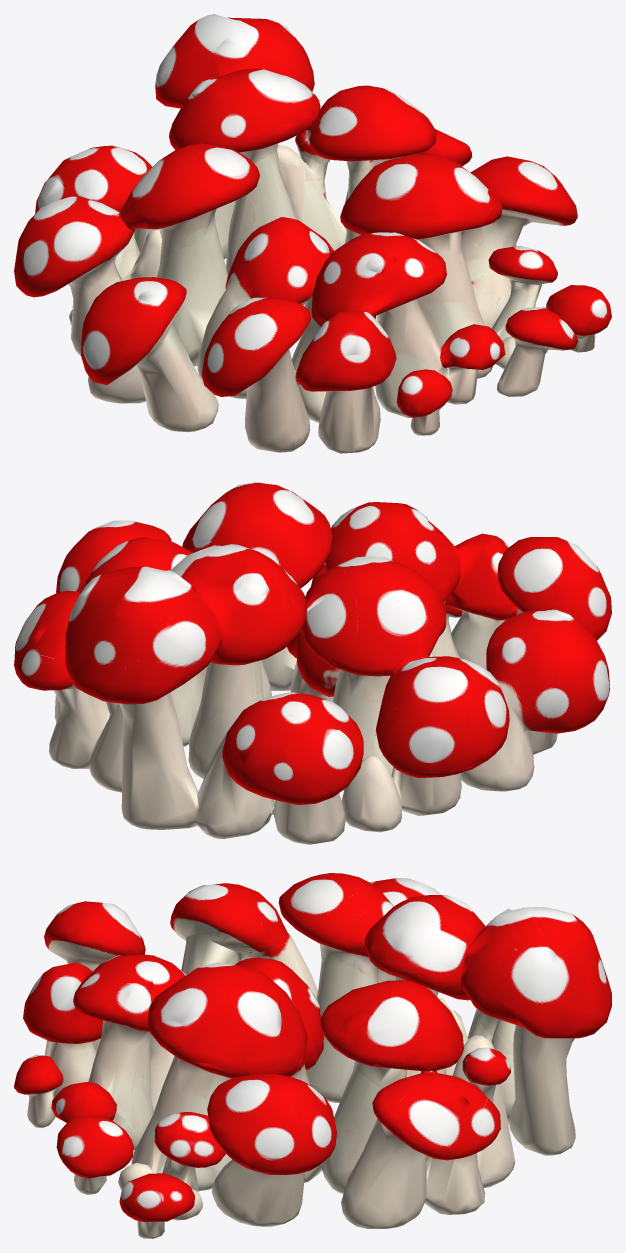
Rendered from mushroom_cluster.glb.
The picture shows the model from 3 angles, top to bottom: view 1: azimuth 30°, elevation 25°; view 2: azimuth 150°, elevation 25°; view 3: azimuth 270°, elevation 25°; orthographic projection. The views are drawn at different scales.
Bounding box in the file's own units: 1.91 × 0.8458 × 1.9.
Materials: 1 (1 with a texture image).
